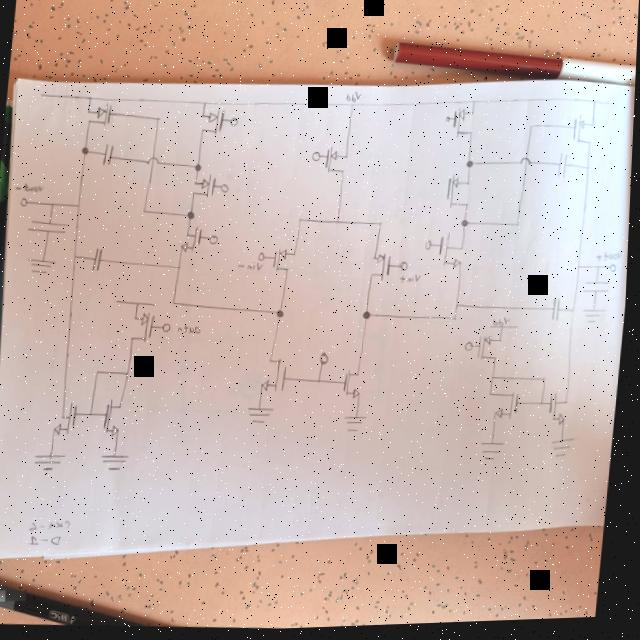capacitor: (30, 218, 72, 237), (583, 280, 615, 300), (556, 155, 574, 186), (552, 300, 569, 327), (102, 141, 117, 169), (93, 247, 107, 275)
crossover: (147, 155, 165, 170), (520, 159, 534, 171)
ground: (35, 451, 73, 474), (102, 453, 136, 475), (28, 255, 62, 277), (482, 443, 512, 467), (249, 407, 280, 428), (553, 441, 581, 464), (346, 416, 374, 437), (583, 311, 609, 330)
junction: (364, 312, 376, 323), (277, 310, 289, 321), (81, 146, 93, 157), (195, 164, 206, 174), (463, 222, 473, 232), (468, 162, 477, 172), (189, 212, 198, 221), (74, 253, 83, 261), (471, 101, 479, 110), (515, 225, 523, 234), (592, 103, 600, 111), (51, 202, 59, 209), (349, 104, 357, 111), (572, 311, 580, 318), (584, 169, 593, 175), (78, 203, 85, 210), (530, 126, 537, 133), (178, 265, 185, 272), (544, 380, 552, 386), (92, 411, 98, 419), (320, 380, 326, 387), (144, 209, 151, 215), (174, 301, 181, 307), (129, 371, 135, 378), (98, 370, 105, 376), (300, 219, 306, 226), (579, 268, 586, 274), (157, 117, 163, 123), (380, 223, 386, 229), (456, 319, 462, 325), (458, 306, 464, 312), (204, 102, 210, 108), (337, 222, 343, 228), (495, 378, 501, 384), (544, 405, 550, 411), (598, 269, 604, 275), (88, 97, 94, 102)
terminal: (118, 299, 159, 310), (491, 326, 523, 337), (424, 240, 438, 255), (313, 152, 325, 165), (165, 323, 177, 335), (323, 354, 334, 367), (468, 344, 479, 356), (210, 236, 221, 248), (21, 197, 32, 208), (401, 264, 412, 275), (609, 268, 621, 277), (221, 185, 231, 195), (231, 118, 240, 129), (261, 252, 268, 263), (39, 92, 48, 100), (608, 103, 616, 110), (447, 119, 453, 127)
text: (16, 181, 48, 195), (597, 254, 624, 268), (239, 261, 266, 274), (177, 325, 205, 337), (402, 276, 425, 289), (345, 92, 363, 105), (494, 320, 513, 332)
transistor: (259, 354, 297, 398), (489, 391, 528, 428), (437, 233, 471, 274), (443, 176, 477, 216), (53, 399, 86, 440), (548, 392, 579, 434), (102, 397, 131, 441), (129, 310, 163, 347), (323, 146, 357, 182), (570, 117, 601, 153), (449, 108, 481, 142), (477, 337, 509, 369), (85, 100, 119, 130), (179, 225, 210, 257), (369, 253, 398, 287), (190, 173, 221, 203), (199, 109, 229, 140), (272, 248, 301, 278), (344, 369, 369, 403)
